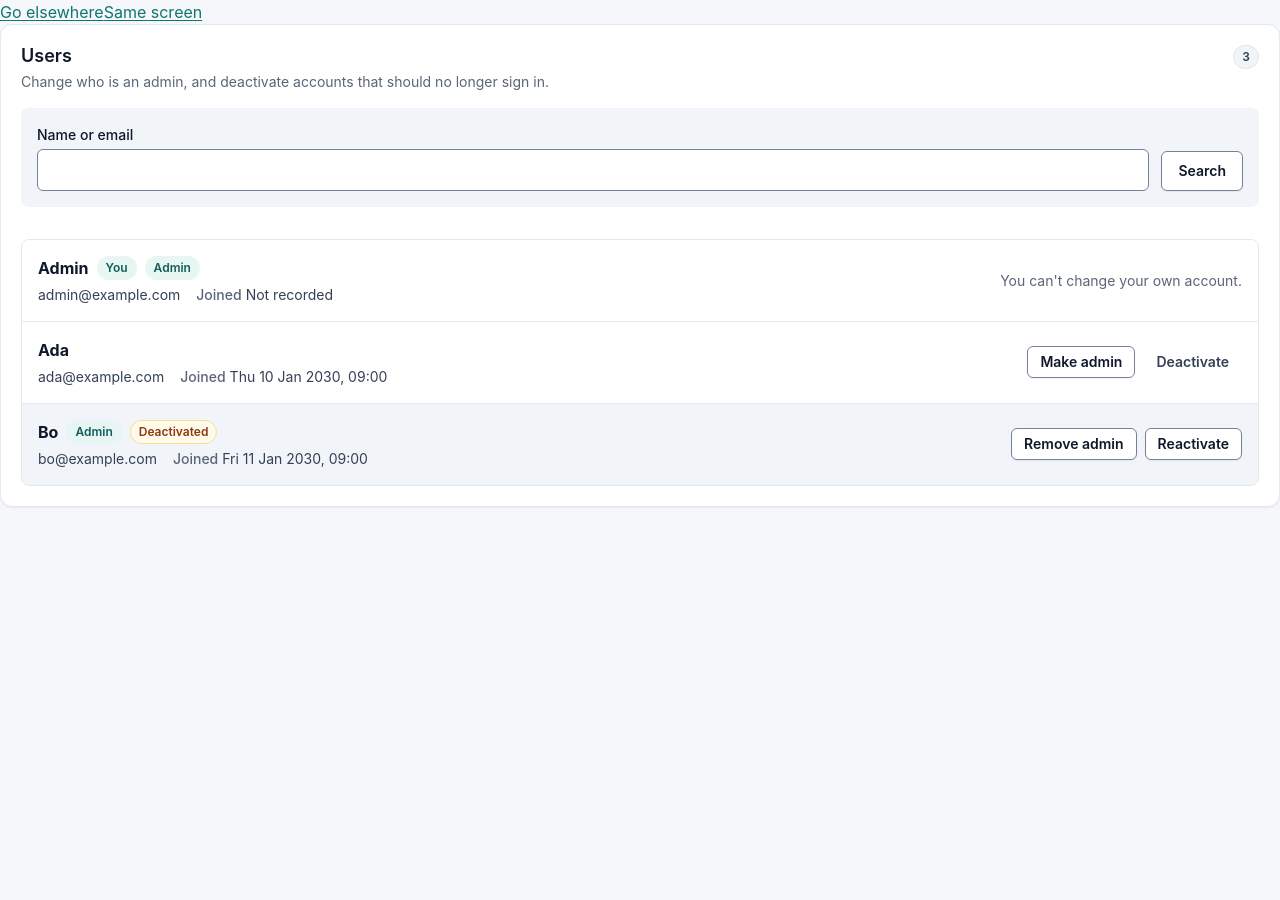
Test: AdminUsersPage › makes a user an admin after confirming, explaining they sign in again
This screenshot has width=1280, height=900.
Click the button with aria-label "Make Ada an admin": x=1081, y=362 [1027, 346, 1135, 378]
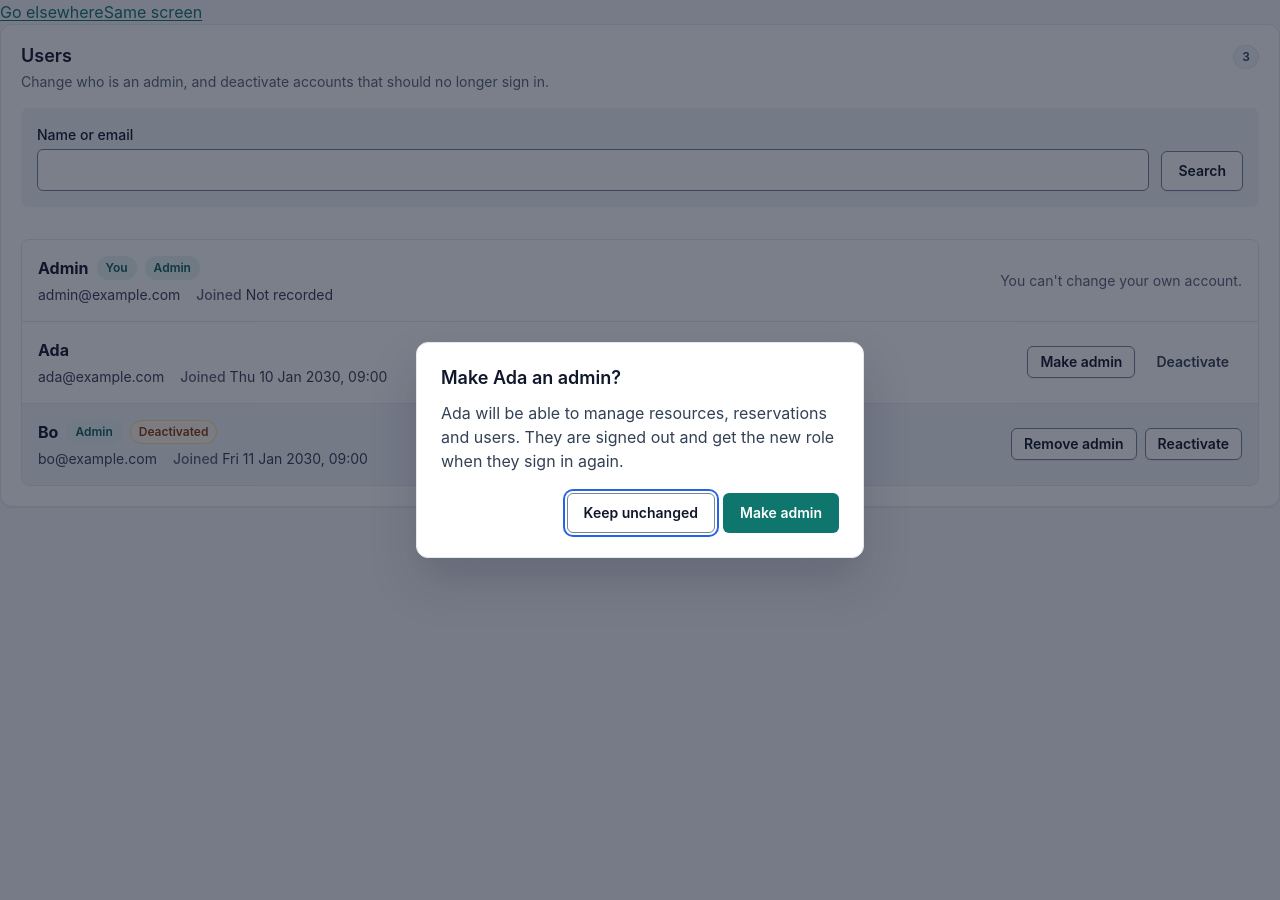
Click the button "Make admin": x=781, y=513 [723, 493, 839, 533]
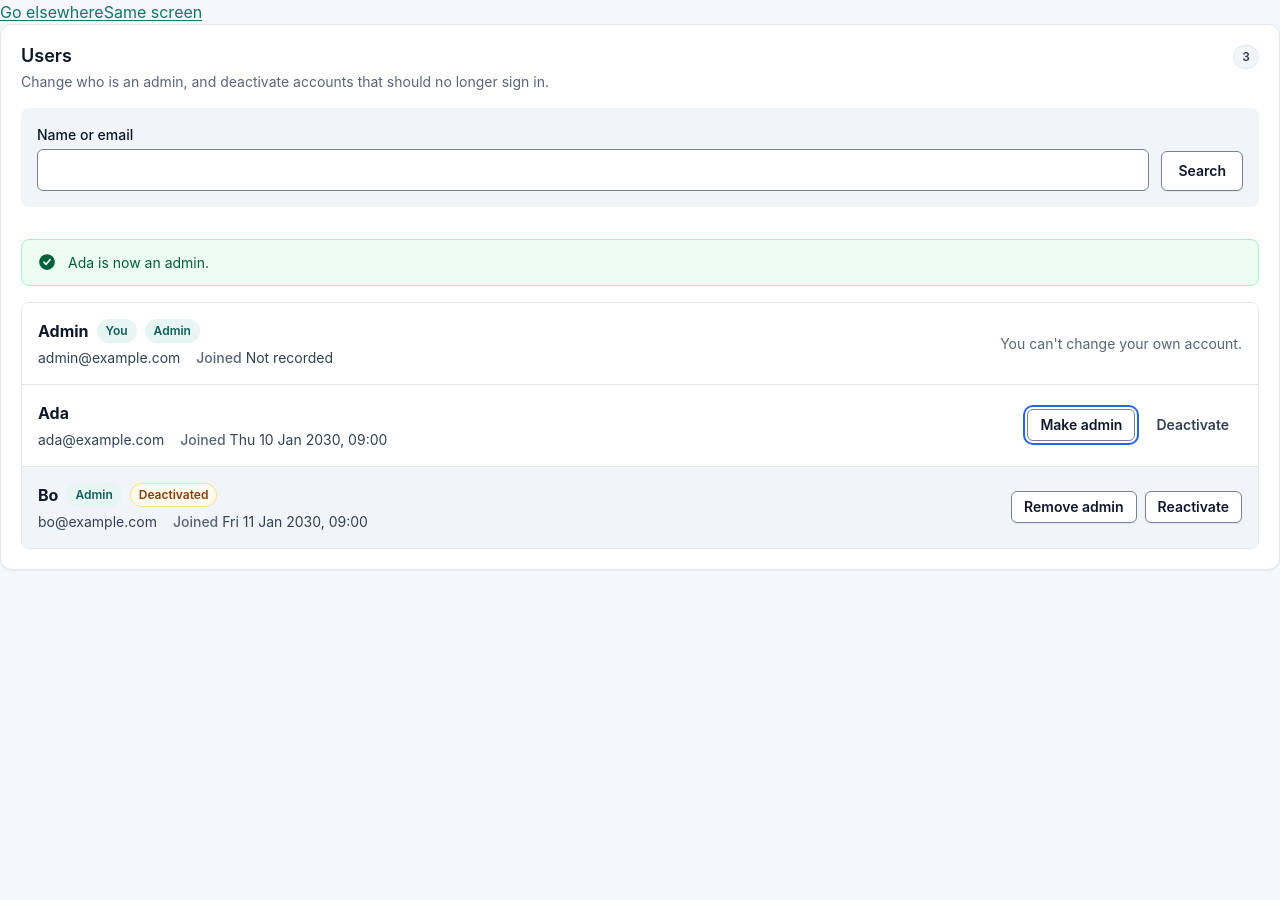
Result: the text "Ada is now an admin." is shown at [68, 252, 209, 273]
